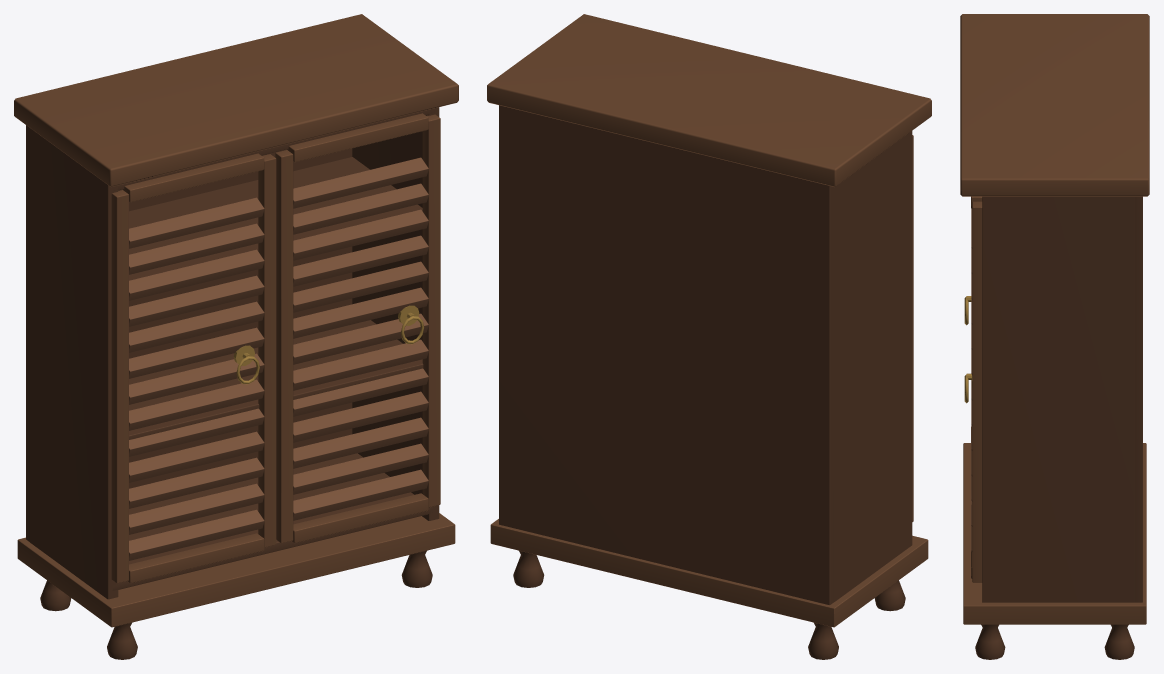
File: rpg-mansion-louver-cupboard-01.glb
3 renders of one model, left to right at view 1: azimuth 30°, elevation 25°; view 2: azimuth 150°, elevation 25°; view 3: azimuth 270°, elevation 25°, orthographic. The views are drawn at different scales.
Visible parts, largest first — view 1: rpg-mansion-louver-cupboard-01; view 2: rpg-mansion-louver-cupboard-01; view 3: rpg-mansion-louver-cupboard-01.
Boxes of the visible parts, x1=… form: rpg-mansion-louver-cupboard-01: x1=14, y1=14, x2=458, y2=659; rpg-mansion-louver-cupboard-01: x1=487, y1=14, x2=931, y2=659; rpg-mansion-louver-cupboard-01: x1=960, y1=14, x2=1149, y2=659.
Bounding box in the file's own units: 0.83 × 1.14 × 0.4.
